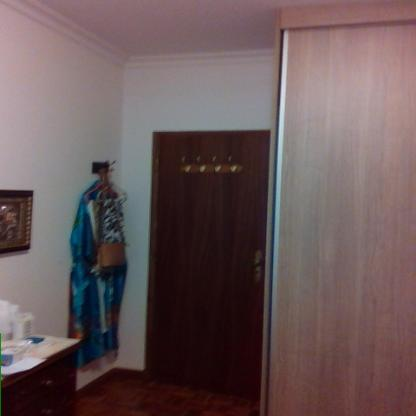closed: (147, 125, 279, 396)
